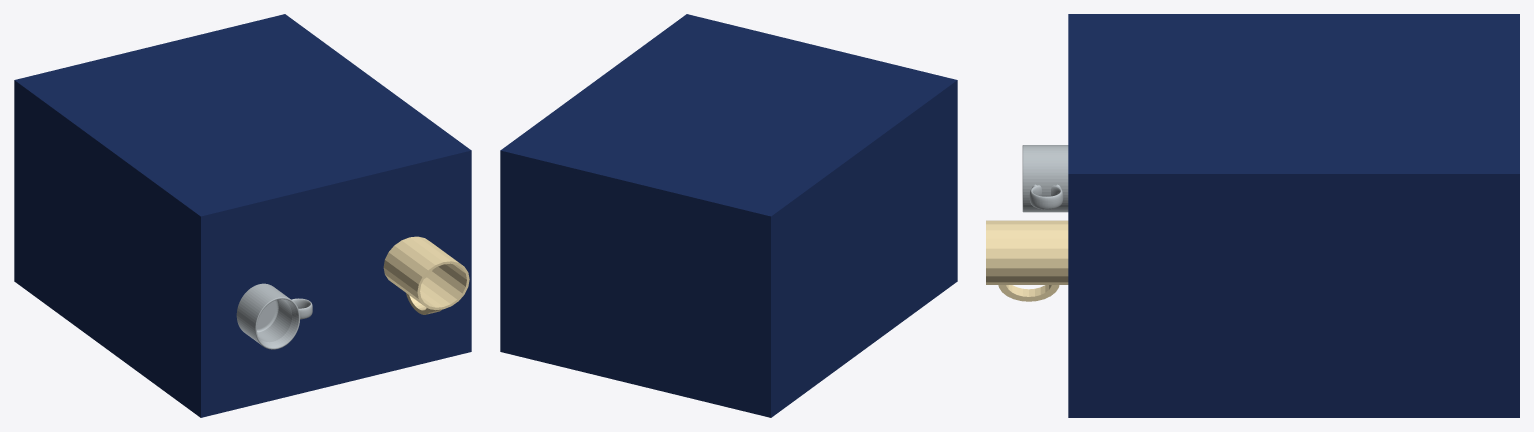
File: tinker.obj
3 renders of one model, left to right at view 1: azimuth 30°, elevation 25°; view 2: azimuth 150°, elevation 25°; view 3: azimuth 270°, elevation 25°, orthographic. The views are drawn at different scales.
Parts seen in each view (by area): view 1: group_0_1650274, group_0_16311991, group_0_12568524; view 2: group_0_1650274; view 3: group_0_1650274, group_0_16311991, group_0_12568524.
Part boxes in pixels (x1=…): group_0_1650274: x1=14, y1=14, x2=471, y2=417; group_0_16311991: x1=383, y1=236, x2=469, y2=314; group_0_12568524: x1=236, y1=283, x2=312, y2=349; group_0_1650274: x1=500, y1=14, x2=957, y2=417; group_0_1650274: x1=1068, y1=14, x2=1519, y2=417; group_0_16311991: x1=986, y1=220, x2=1068, y2=301; group_0_12568524: x1=1022, y1=145, x2=1068, y2=212.
Size of the model in its own units: 83 by 60 by 117.
